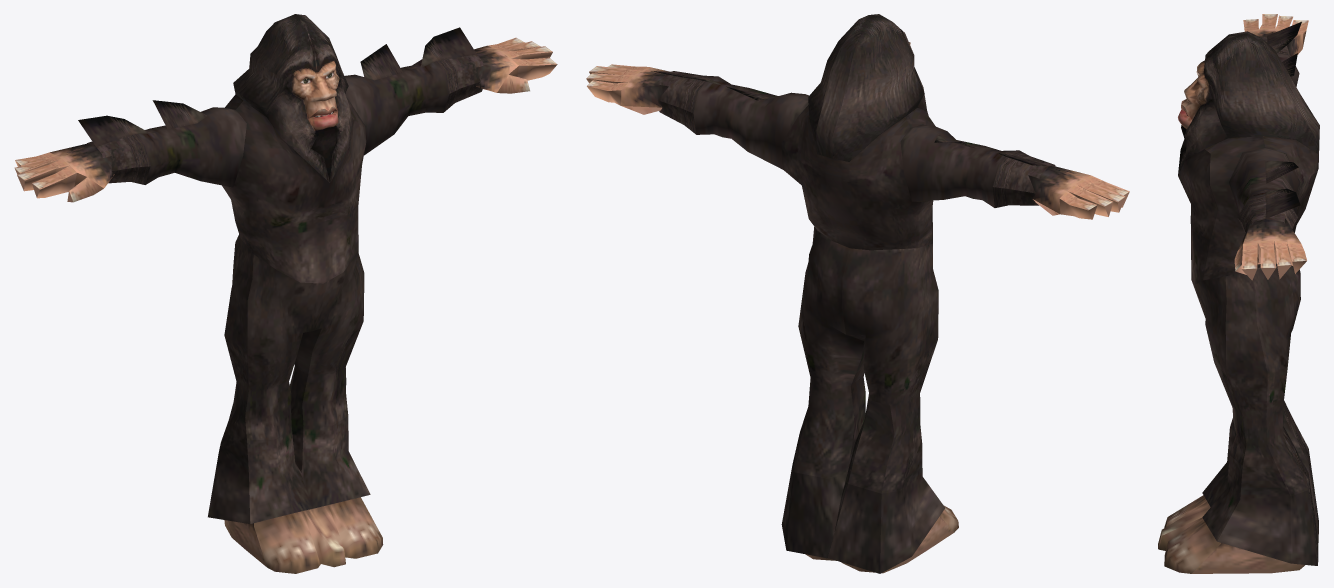
Rendered from bigfoot_thug_2.glb.
The picture shows the model from 3 angles, left to right: view 1: azimuth 30°, elevation 25°; view 2: azimuth 150°, elevation 25°; view 3: azimuth 270°, elevation 25°; orthographic projection.
Visible parts, largest first — view 1: Object_4, Object_3, Object_2, Object_5, Object_6; view 2: Object_4, Object_3, Object_2, Object_5, Object_6; view 3: Object_4, Object_2, Object_3, Object_5, Object_6.
Part boxes in pixels (box(x1,y1,x2,y2)): Object_4: box(208, 234, 370, 523); Object_3: box(86, 54, 483, 283); Object_2: box(14, 14, 557, 202); Object_5: box(224, 497, 383, 573); Object_6: box(78, 27, 476, 146); Object_4: box(781, 227, 944, 573); Object_3: box(657, 71, 1055, 250); Object_2: box(586, 14, 1129, 219); Object_5: box(806, 505, 958, 573); Object_6: box(651, 71, 1048, 166); Object_4: box(1191, 263, 1318, 565); Object_2: box(1178, 14, 1319, 280); Object_3: box(1178, 36, 1319, 284); Object_5: box(1158, 495, 1304, 573); Object_6: box(1265, 22, 1301, 218).
Bounding box in the file's own units: 80.66 × 76.25 × 21.69.
Materials: 5 (5 with a texture image).
